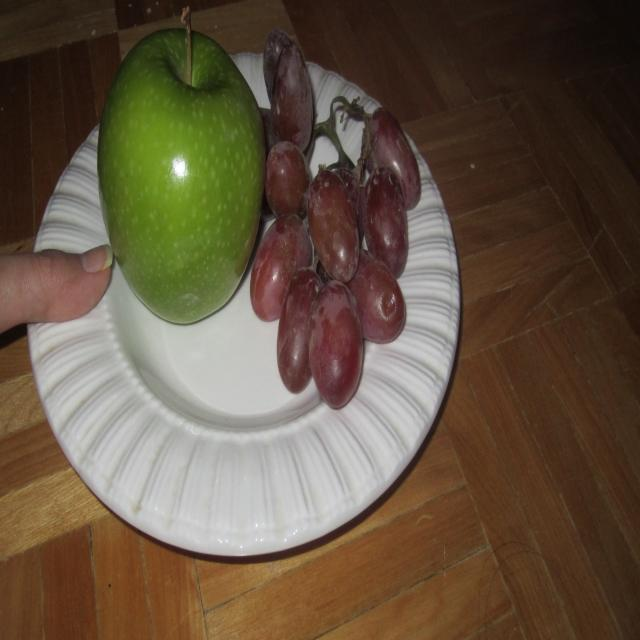apple: (90, 5, 270, 328)
grape: (274, 6, 444, 397)
